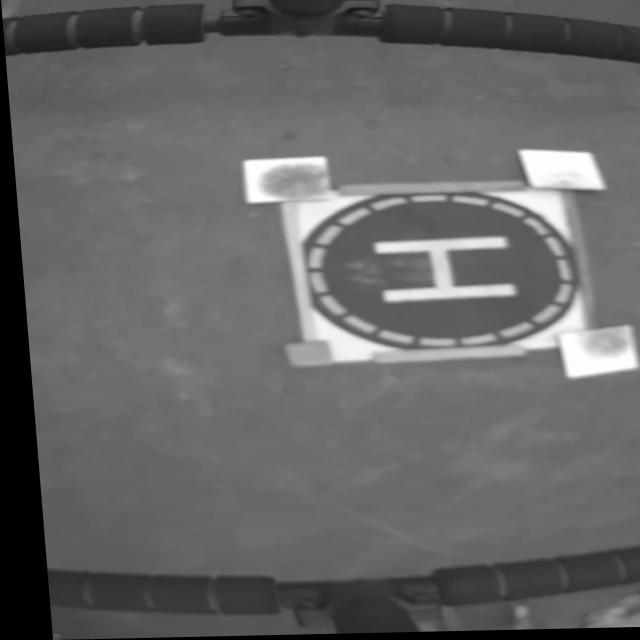Helipad: (368, 238, 513, 304)
